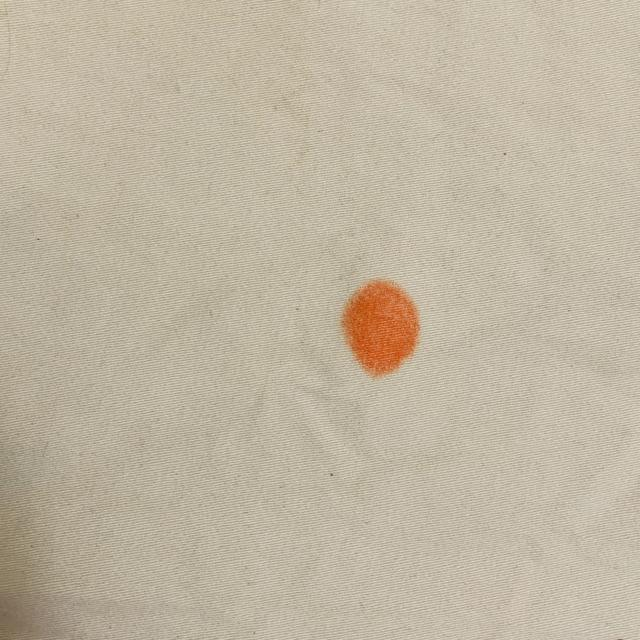Stain: (343, 280, 420, 376)
